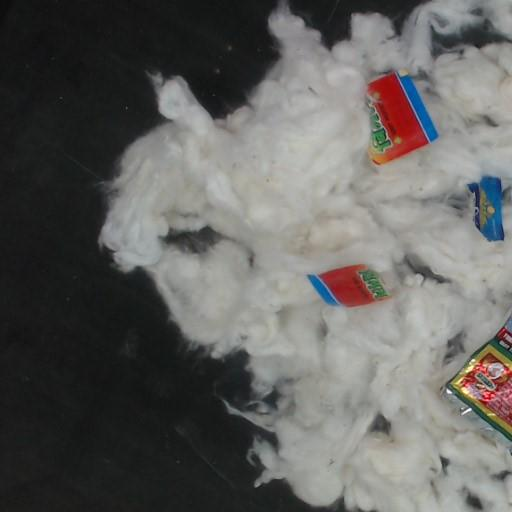conveyor belt: (289, 0, 423, 46), (435, 23, 503, 53), (168, 228, 216, 252)
cotton: (99, 0, 511, 511)
packet: (445, 312, 511, 442), (368, 72, 438, 165), (308, 265, 388, 306), (468, 176, 504, 241)
